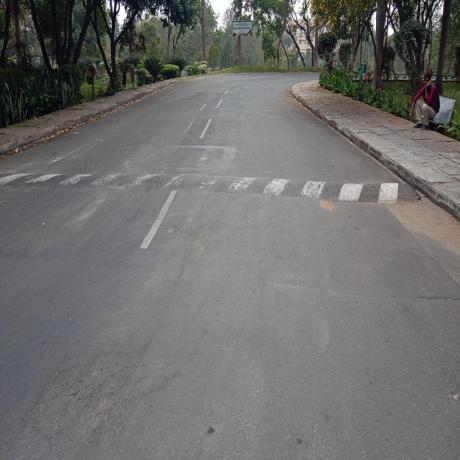Speed Bump: (0, 164, 424, 204)
